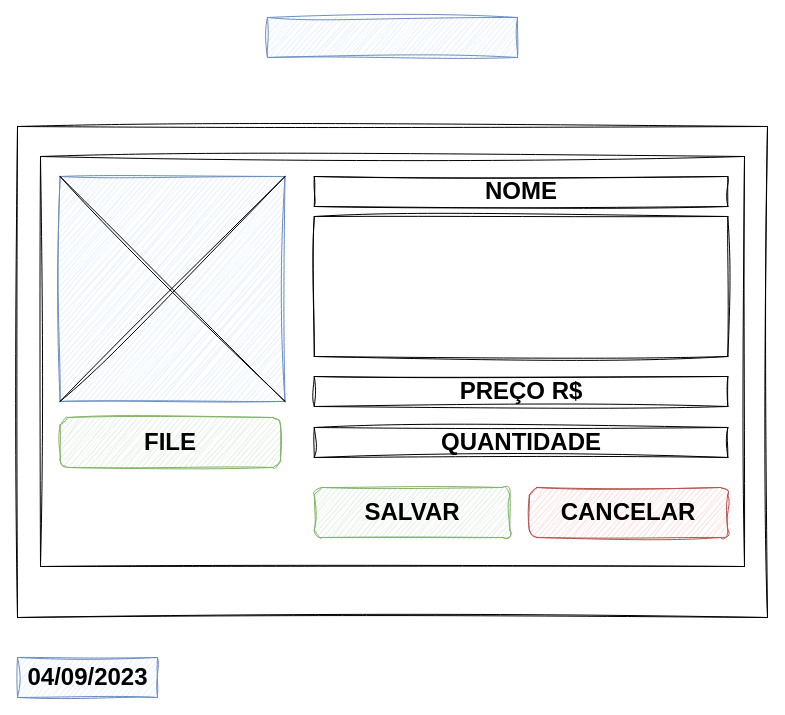
Image size: 785x715. Some labels were removed from this diagram. The centre of each missing label's shape, as x and y in pixels:
"DESCRIÇÃO" belongs at [520,286].
"Gerenciar produtos" belongs at [392,37].
